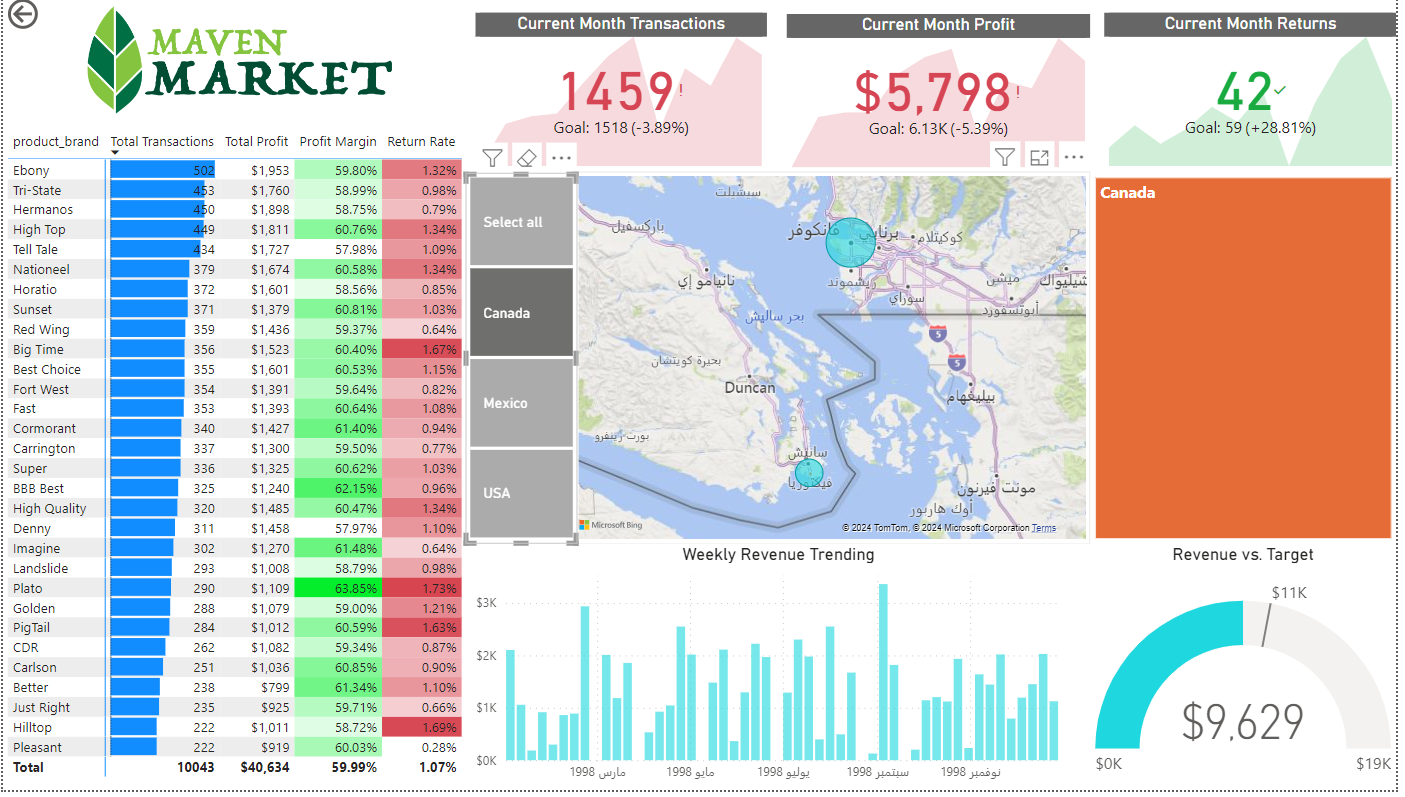

This screenshot's page, from the dashboard's own definition file:
{"tool":"powerbi","page":{"name":"Topline Performance","canvas":[1400,800],"ordinal":0},"visuals":[{"type":"image","box":[10,0,453.4,131.9],"z":0},{"type":"pivotTable","fields":{"Rows":["Products.product_brand"],"Values":["_Measures.Total Transactions","_Measures.Total Profit","_Measures.Profit Margin","_Measures.Return Rate"]},"box":[0,131.9,499.8,668.1],"z":1000},{"type":"actionButton","box":[0,0,100,40],"z":2000},{"type":"kpi","title":"Current Month Transactions","fields":{"Indicator":["_Measures.Total Transactions"],"TrendLine":["Calendar.Start of Month"],"Goal":["_Measures.Last Month Transactions"]},"box":[474.8,18.7,292.9,159.2],"z":3000},{"type":"kpi","title":"Current Month Profit","fields":{"TrendLine":["Calendar.Start of Month"],"Indicator":["_Measures.Total Profit"],"Goal":["_Measures.Last Month Profit"]},"box":[787.7,20.1,304.9,159.2],"z":4000},{"type":"kpi","title":"Current Month Returns","fields":{"Indicator":["_Measures.Total Returns"],"Goal":["_Measures.Last Month Returns"],"TrendLine":["Calendar.Start of Month"]},"box":[1106,18.7,294.2,159.2],"z":5000},{"type":"map","fields":{"Size":["_Measures.Total Transactions"],"Category":["Stores.City"]},"box":[568.4,177.9,524.3,374.5],"z":5001},{"type":"advancedSlicerVisual","fields":{"Values":["Stores.Country/Region"]},"box":[464.1,179.2,113.7,373.1],"z":5002},{"type":"treemap","fields":{"Group":["Stores.Country/Region"],"Values":["_Measures.Total Transactions"]},"box":[1092.7,179.2,307.6,373.1],"z":5003},{"type":"clusteredColumnChart","title":"Weekly Revenue Trending","fields":{"Y":["_Measures.Total Profit"],"Category":["Calendar.Start of Week"]},"box":[464.1,552.4,628.6,247.4],"z":5004},{"type":"gauge","title":"Revenue vs. Target","fields":{"TargetValue":["_Measures.Revenue Target"],"Y":["_Measures.Total Revenue"]},"box":[1093,552,307,247],"z":5005}]}

Visuals, with their boxes in screenshot pixels (x1, y1, x2, y2), scaled from the page's 1400x800 canvas onto the 1405x797 screenshot:
image: [10,0,465,131]
pivotTable - Products.product_brand x _Measures.Total Transactions: [0,131,502,796]
actionButton: [0,0,100,40]
"Current Month Transactions" kpi: [476,19,770,177]
"Current Month Profit" kpi: [791,20,1097,179]
"Current Month Returns" kpi: [1110,19,1404,177]
map - _Measures.Total Transactions x Stores.City: [570,177,1097,550]
advancedSlicerVisual - Stores.Country/Region: [466,179,580,550]
treemap - Stores.Country/Region x _Measures.Total Transactions: [1097,179,1404,550]
"Weekly Revenue Trending" clusteredColumnChart: [466,550,1097,796]
"Revenue vs. Target" gauge: [1097,550,1404,796]
